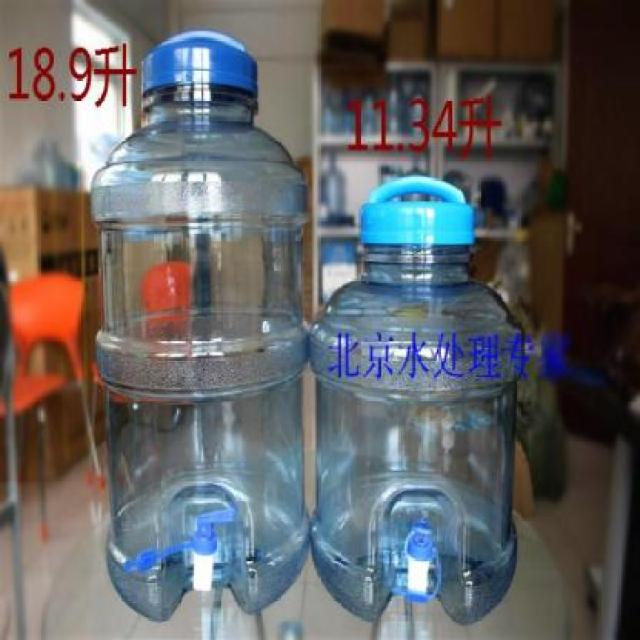coolerbottle: (88, 22, 318, 629), (309, 180, 528, 629)
